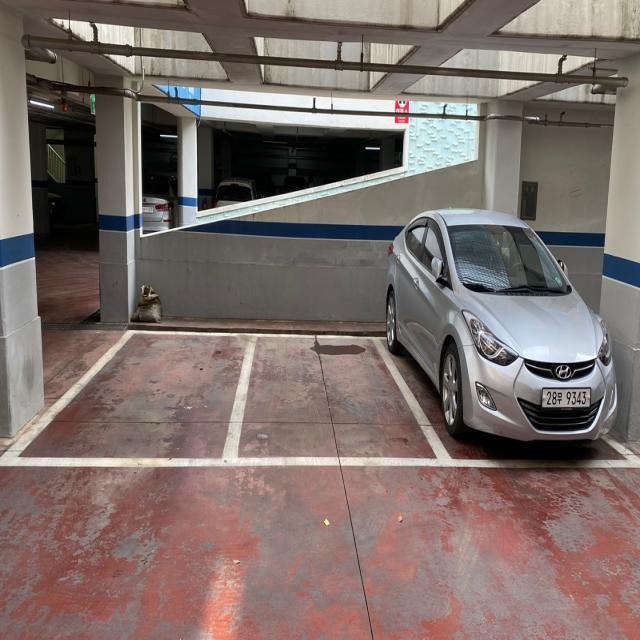empty: (223, 332, 454, 467)
occupied: (387, 203, 627, 456)
